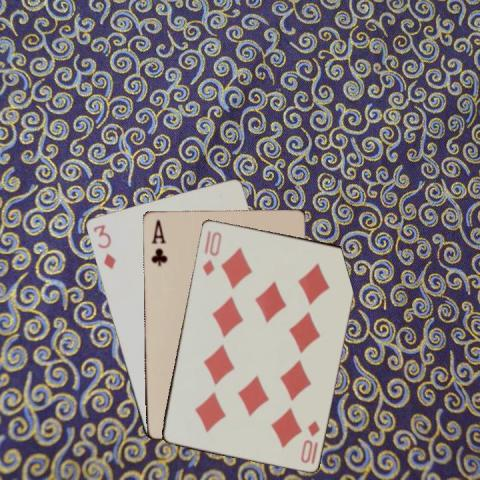10d: (199, 227, 223, 277), (297, 417, 321, 465)
3d: (90, 221, 117, 271)
Ac: (148, 217, 168, 267)
